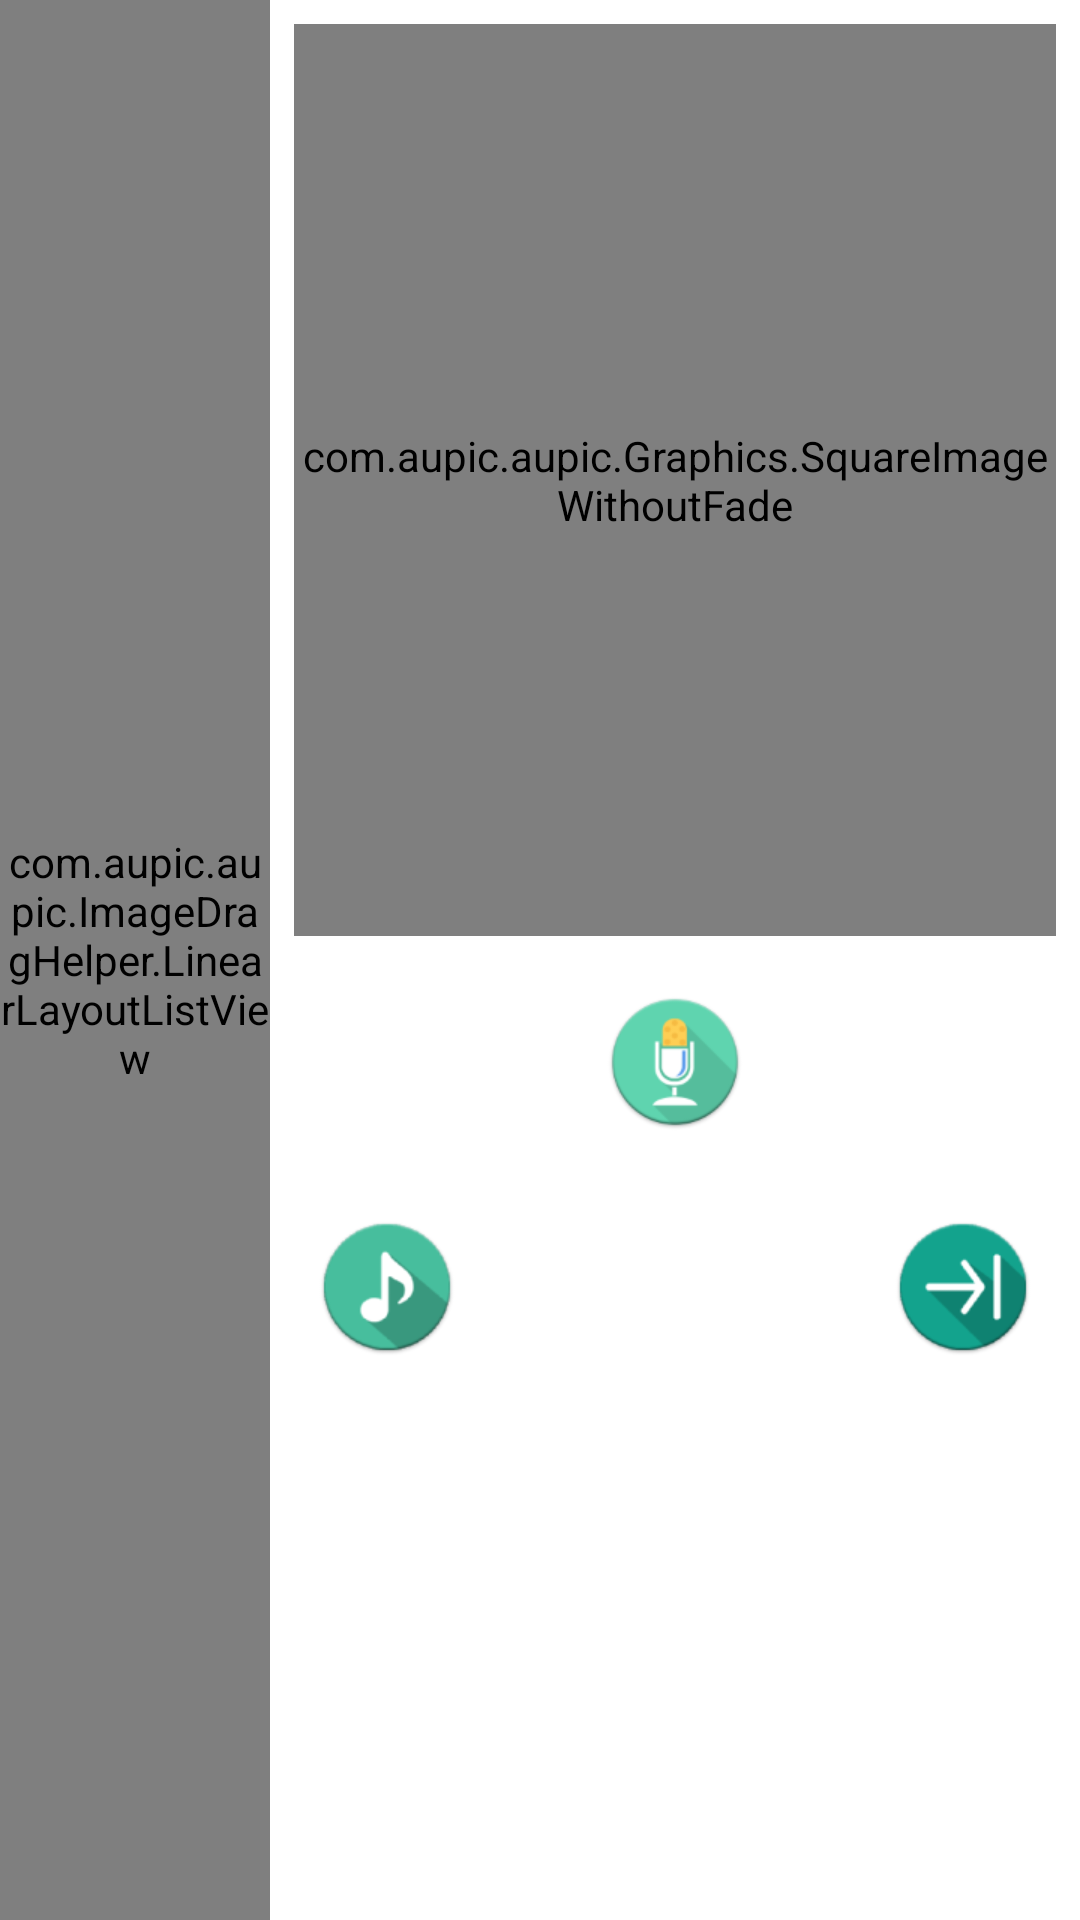

Where to tap for icons on this 1080x1920 app screen, as (x,y):
arrow: (963,1287)
media: (387,1287)
record: (675,1063)
